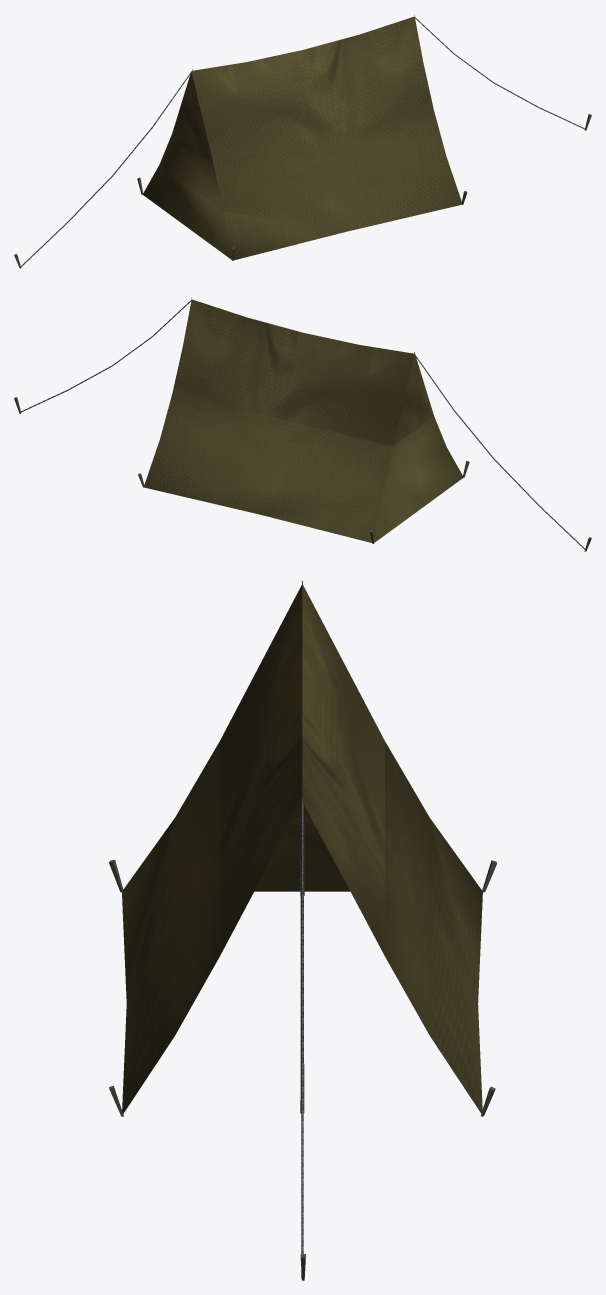
The model's file is tent.obj.
3 renders of one model, top to bottom at view 1: azimuth 30°, elevation 25°; view 2: azimuth 150°, elevation 25°; view 3: azimuth 270°, elevation 25°, orthographic. The views are drawn at different scales.
Parts seen in each view (by area): view 1: skin; view 2: skin; view 3: skin.
Boxes of the visible parts, x1,y1,x2,y2 form: skin: (14,15,591,268); skin: (14,297,591,551); skin: (109,580,496,1280).
Size of the model in its own units: 7.75 by 2.03 by 2.26.
1 material, 1 textured.
